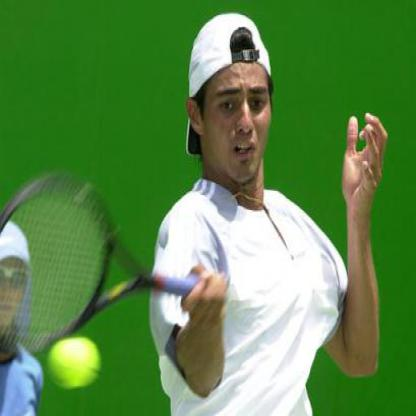face: (200, 17, 276, 185), (1, 234, 32, 330)
